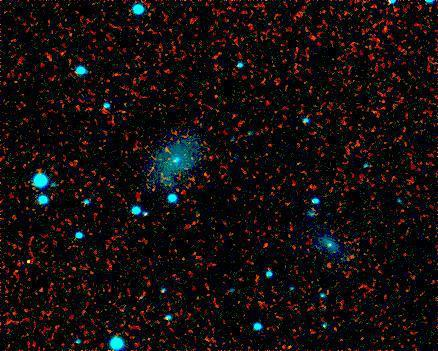star: (5, 242, 35, 272)
